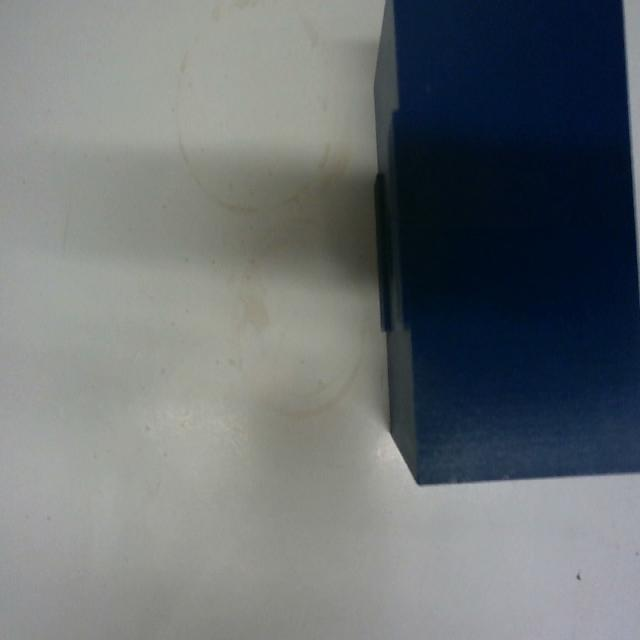Blue Cuboid: (369, 0, 639, 487)
